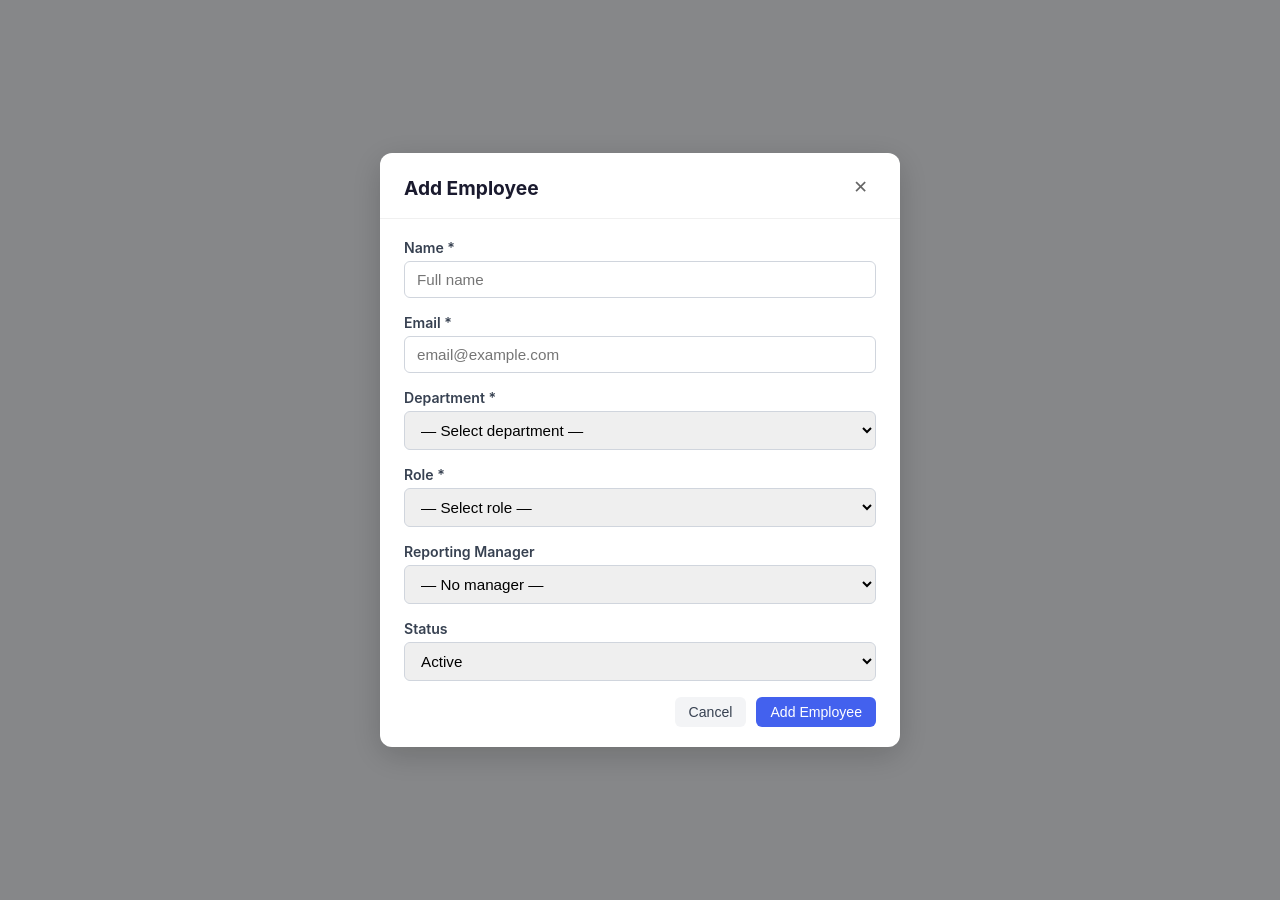
EmployeeForm — validation › shows invalid email error for bad email format
Type "Test User" into the field labelled "Name *".
click(640, 280); type("Test User")  # box [404,261,876,298]
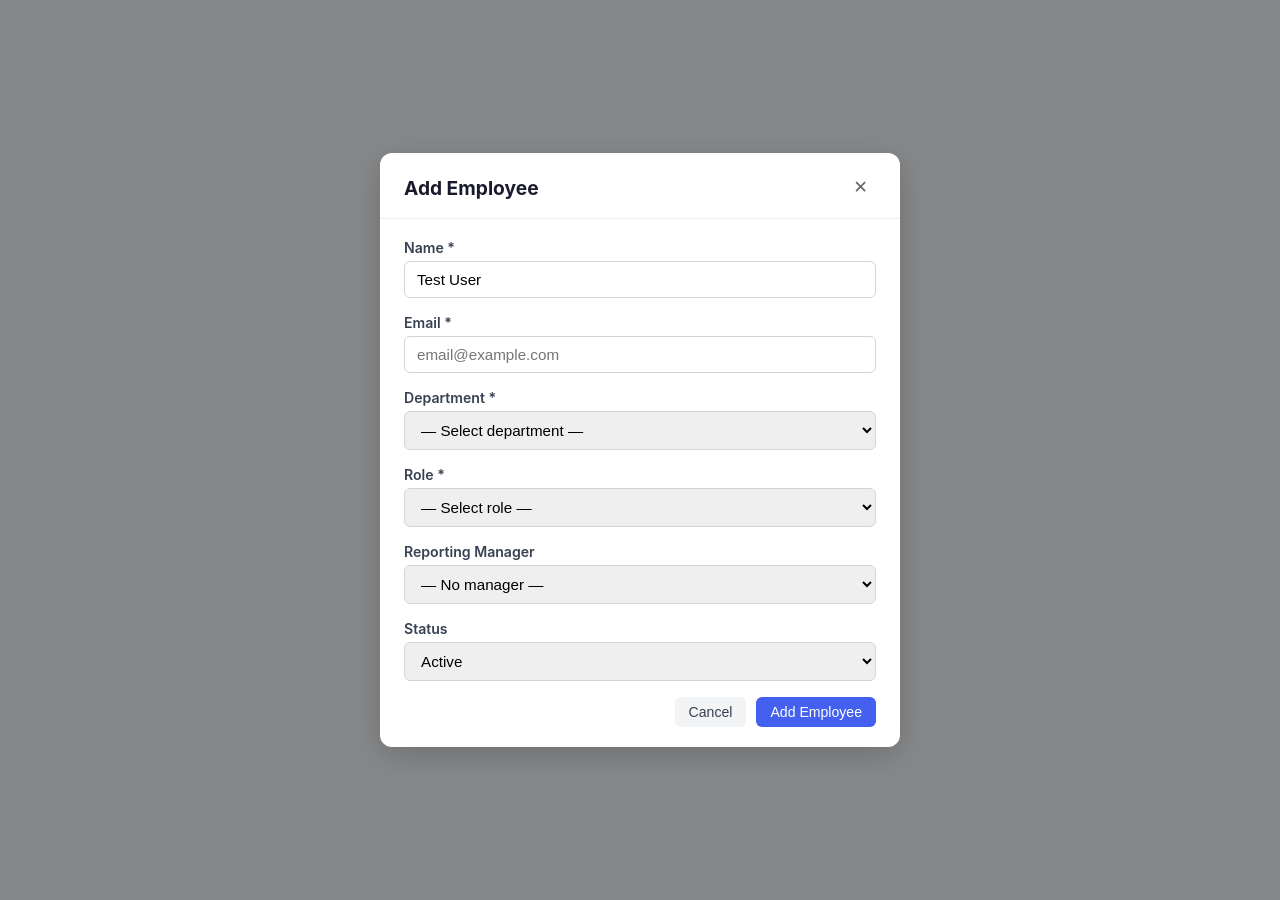
Type "not-an-email" into the field labelled "Email *".
click(640, 354); type("not-an-email")  # box [404,336,876,373]
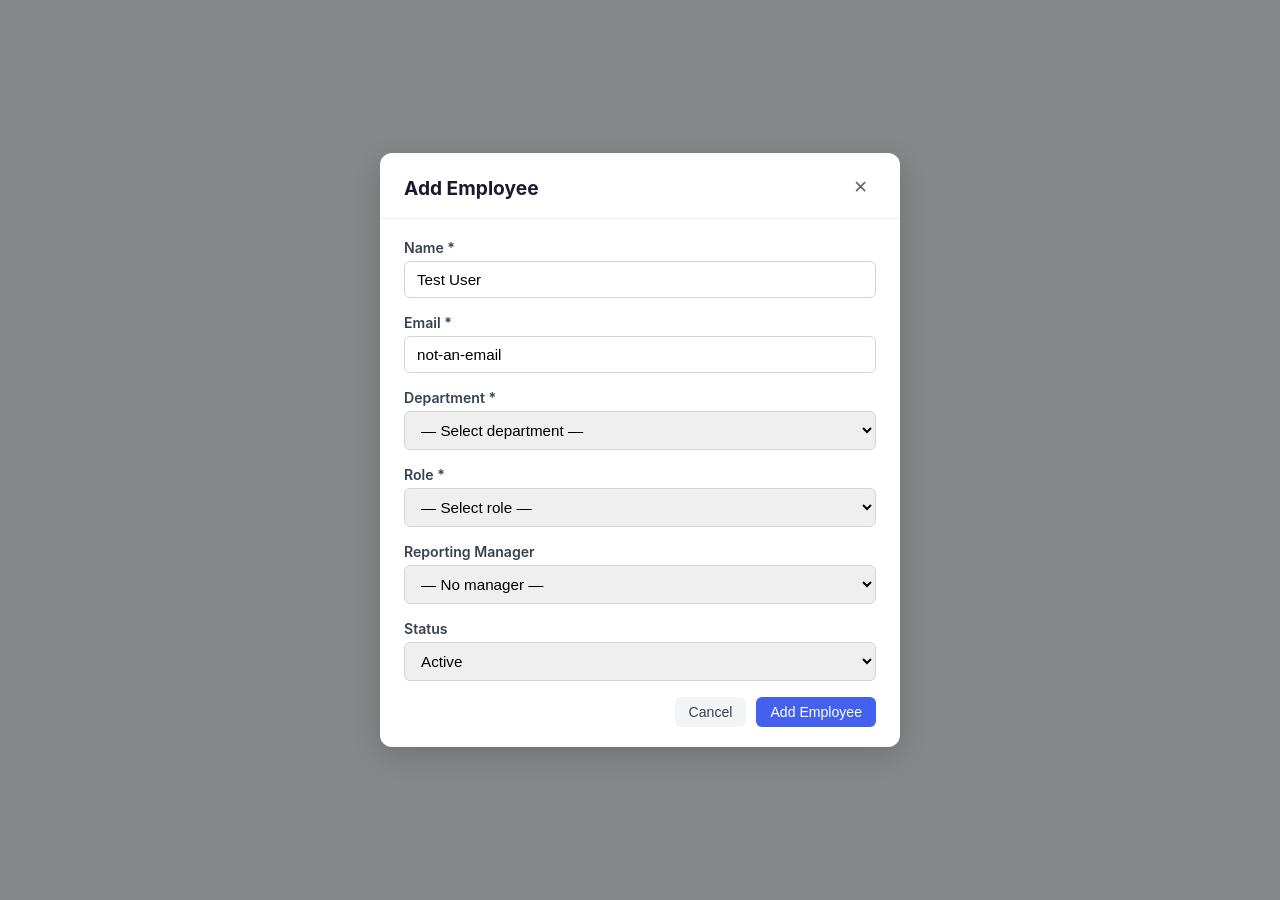
Click the button "Add Employee".
click(816, 712)  # box [756,697,876,727]
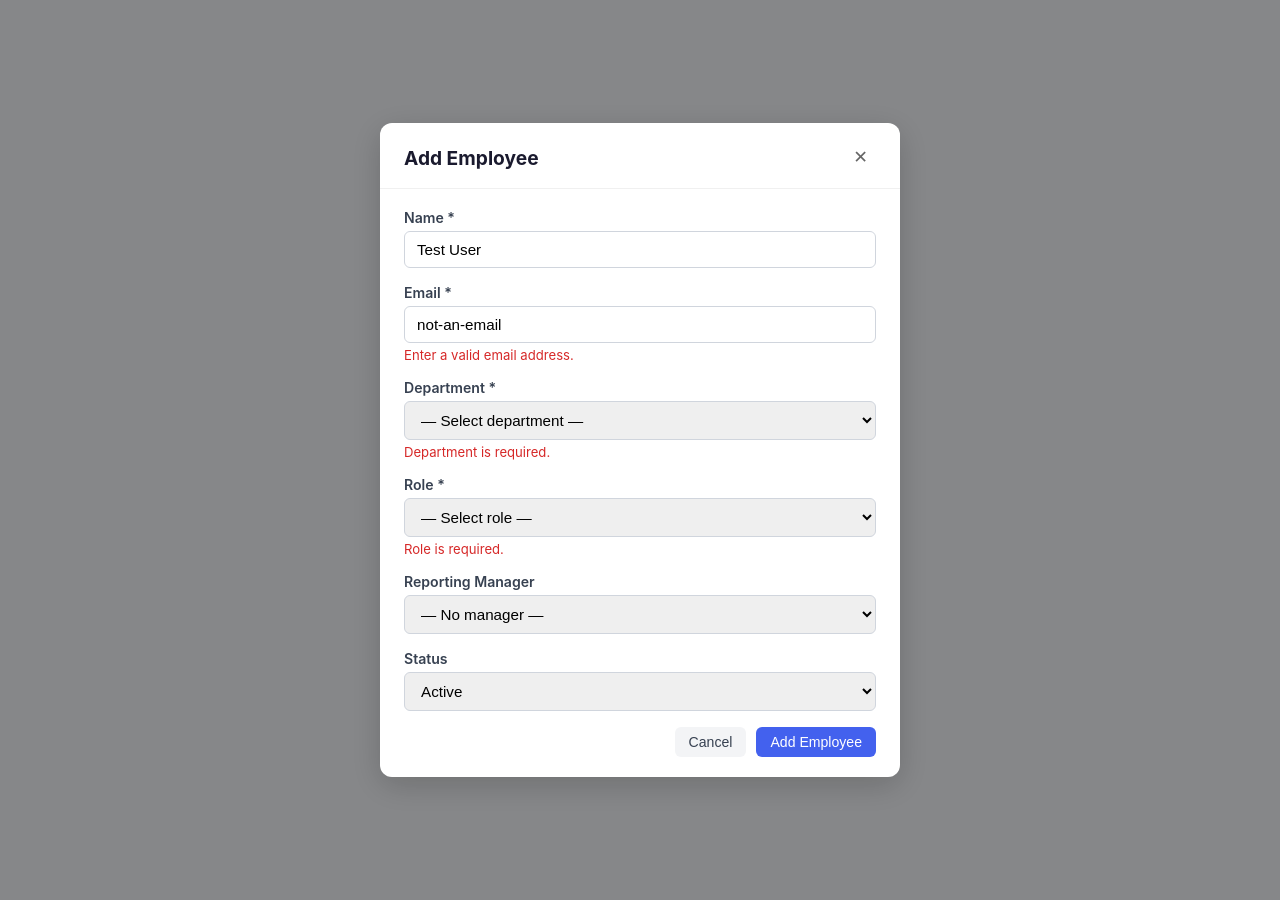
Check: the text "Enter a valid email address." is shown, box [404,347,574,363]
